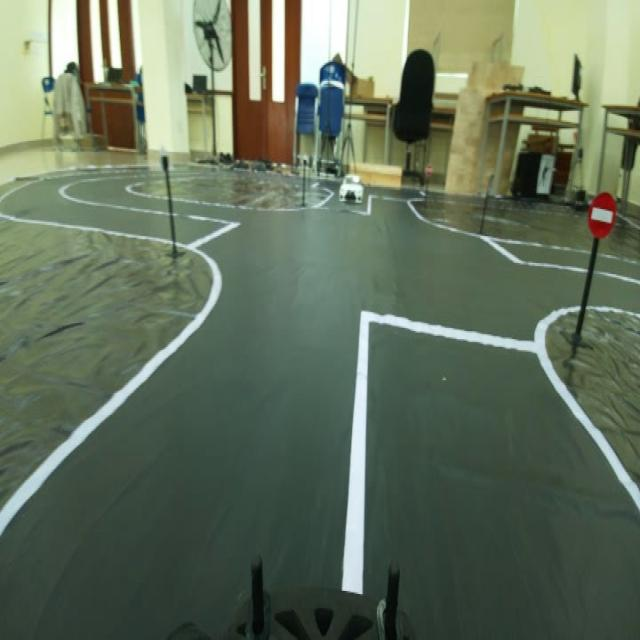no_entry: (581, 173, 622, 250)
